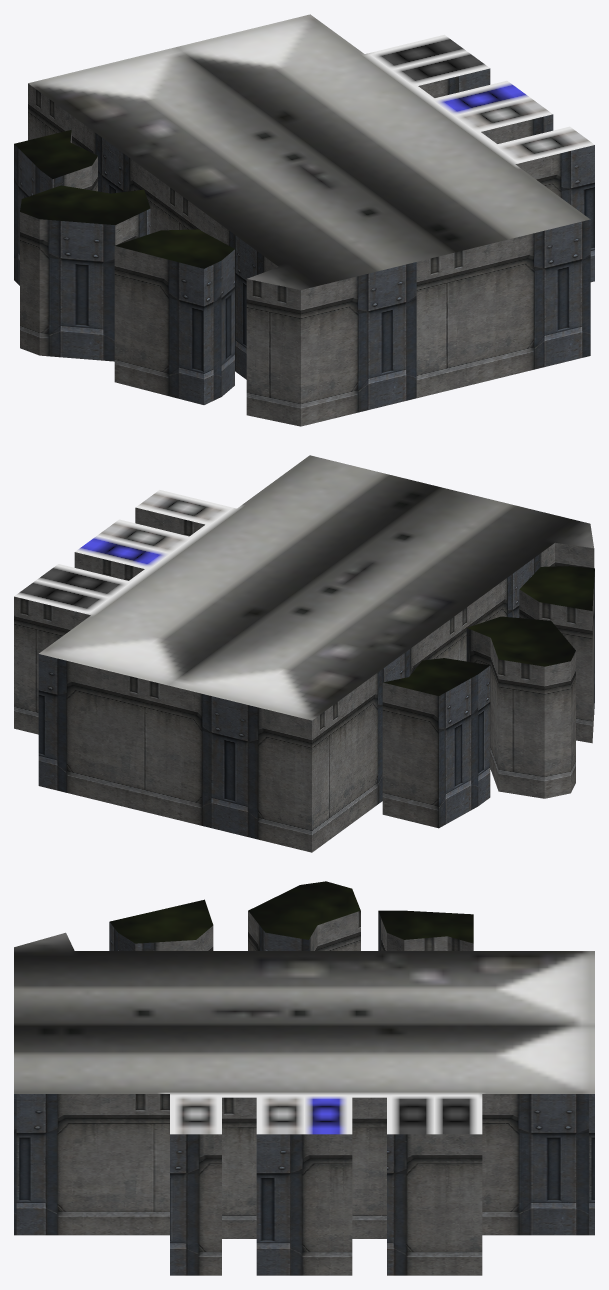
File: BuildingSystem-03-Advance-03-Heavy-3-45-02.glb
The picture shows the model from 3 angles, top to bottom: view 1: azimuth 30°, elevation 25°; view 2: azimuth 150°, elevation 25°; view 3: azimuth 270°, elevation 25°; orthographic projection. The views are drawn at different scales.
Visible parts, largest first — view 1: buildings/saxarba/SMV_Buildings/BuildingSystem-03-Advance-03; view 2: buildings/saxarba/SMV_Buildings/BuildingSystem-03-Advance-03; view 3: buildings/saxarba/SMV_Buildings/BuildingSystem-03-Advance-03.
Part boxes in pixels (x1,y1,x2,y2): buildings/saxarba/SMV_Buildings/BuildingSystem-03-Advance-03: [14, 14, 594, 426]; buildings/saxarba/SMV_Buildings/BuildingSystem-03-Advance-03: [14, 455, 594, 852]; buildings/saxarba/SMV_Buildings/BuildingSystem-03-Advance-03: [14, 881, 594, 1275].
Size of the model in its own units: 69 by 18 by 67.
